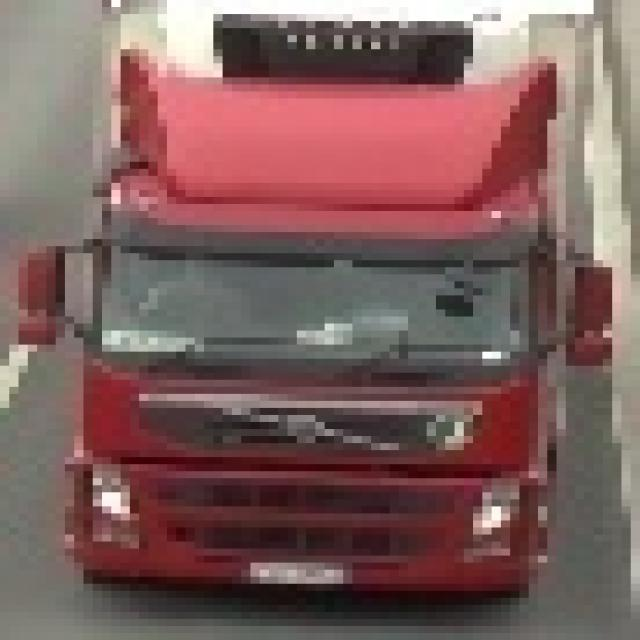truck: (9, 0, 603, 605)
